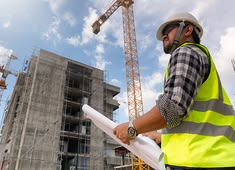crane: (87, 3, 147, 169)
hardhat: (154, 13, 206, 37)
person: (114, 12, 231, 167)
safety_vest: (165, 46, 228, 164)
